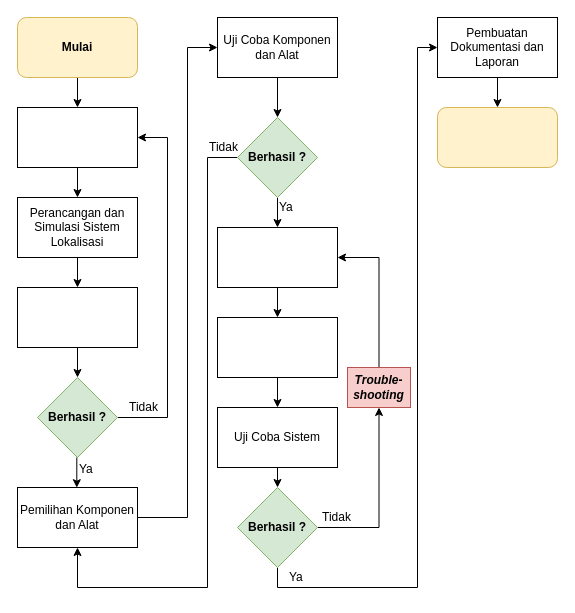
The diagram is 575 pixels wide and 613 high, and some of its shapes have lost their labels. The shapes that lost their labels are listed below. From the top down, each one's centre as x and y in pixels, then its label:
At point (77, 137): "Studi Pustaka".
At point (497, 137): "Selesai".
At point (277, 257): "Integrasi Komponen dan Alat".
At point (77, 317): "Perancangan dan Simulasi Sistem Kontrol".
At point (277, 347): "Integrasi Sistem Keseluruhan secara Real-Time".
